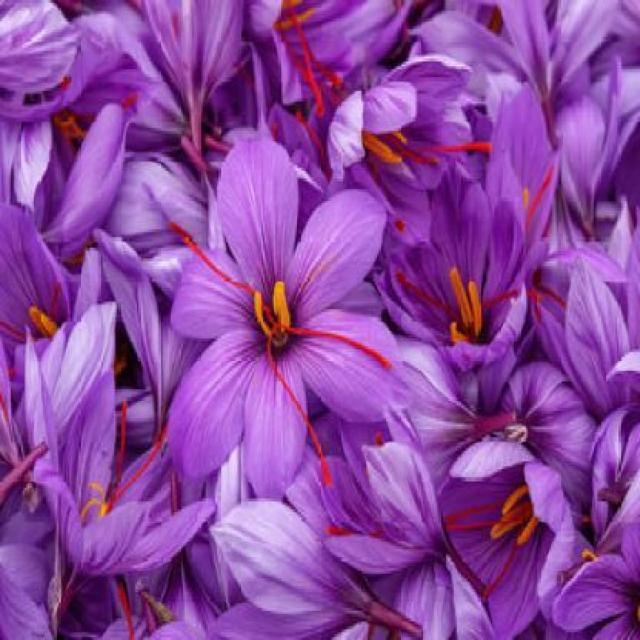Flower: (164, 137, 396, 469), (412, 163, 536, 372), (203, 500, 377, 638), (328, 429, 464, 571), (170, 0, 252, 109)
stigma: (260, 326, 338, 489), (165, 216, 260, 298), (274, 26, 331, 124), (285, 324, 396, 374), (103, 397, 131, 517), (478, 545, 524, 603), (399, 139, 498, 162), (110, 581, 138, 640)
